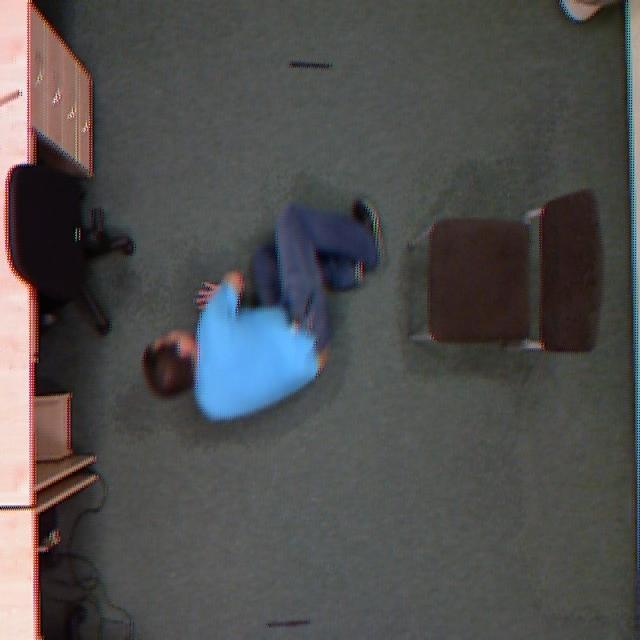fall: (140, 180, 388, 432)
